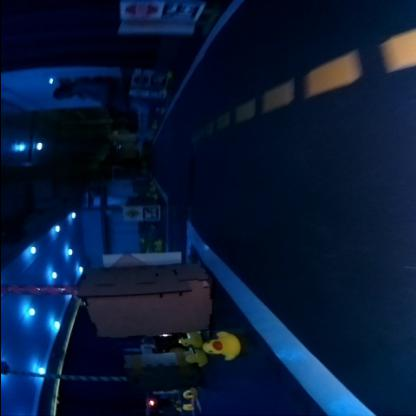Duckie: (200, 331, 238, 359), (180, 332, 200, 348), (184, 352, 204, 366), (183, 390, 191, 398), (180, 404, 192, 408)
Intersection sign: (124, 208, 140, 218)
QR code: (162, 2, 198, 18), (142, 206, 158, 218)
Stop sign: (119, 0, 158, 19)
